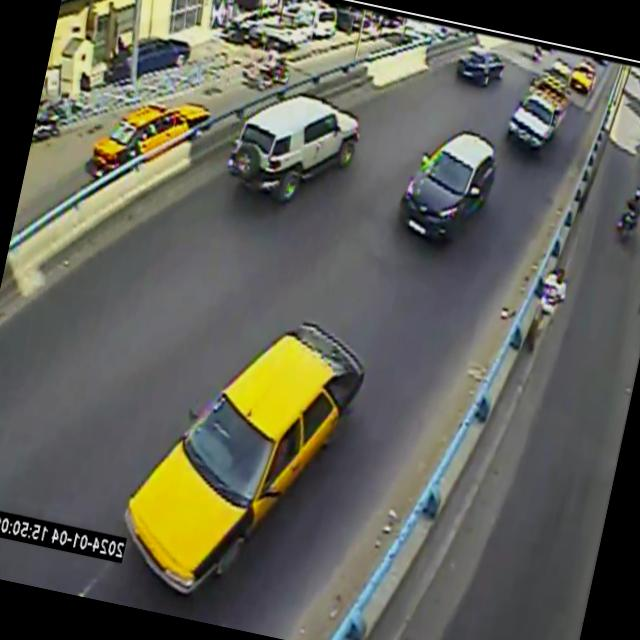car: (125, 321, 365, 594), (227, 94, 359, 203), (401, 130, 496, 240), (91, 103, 209, 176), (508, 72, 569, 149), (457, 45, 504, 86), (570, 61, 596, 94)
